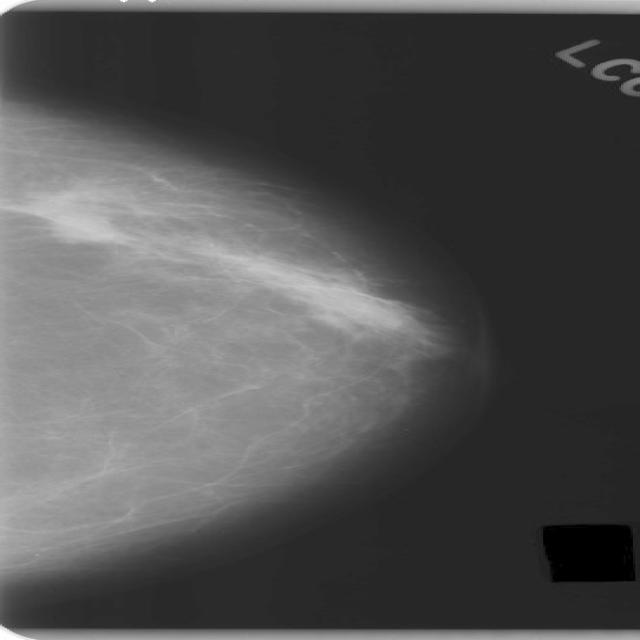tumour: (9, 188, 142, 244)
